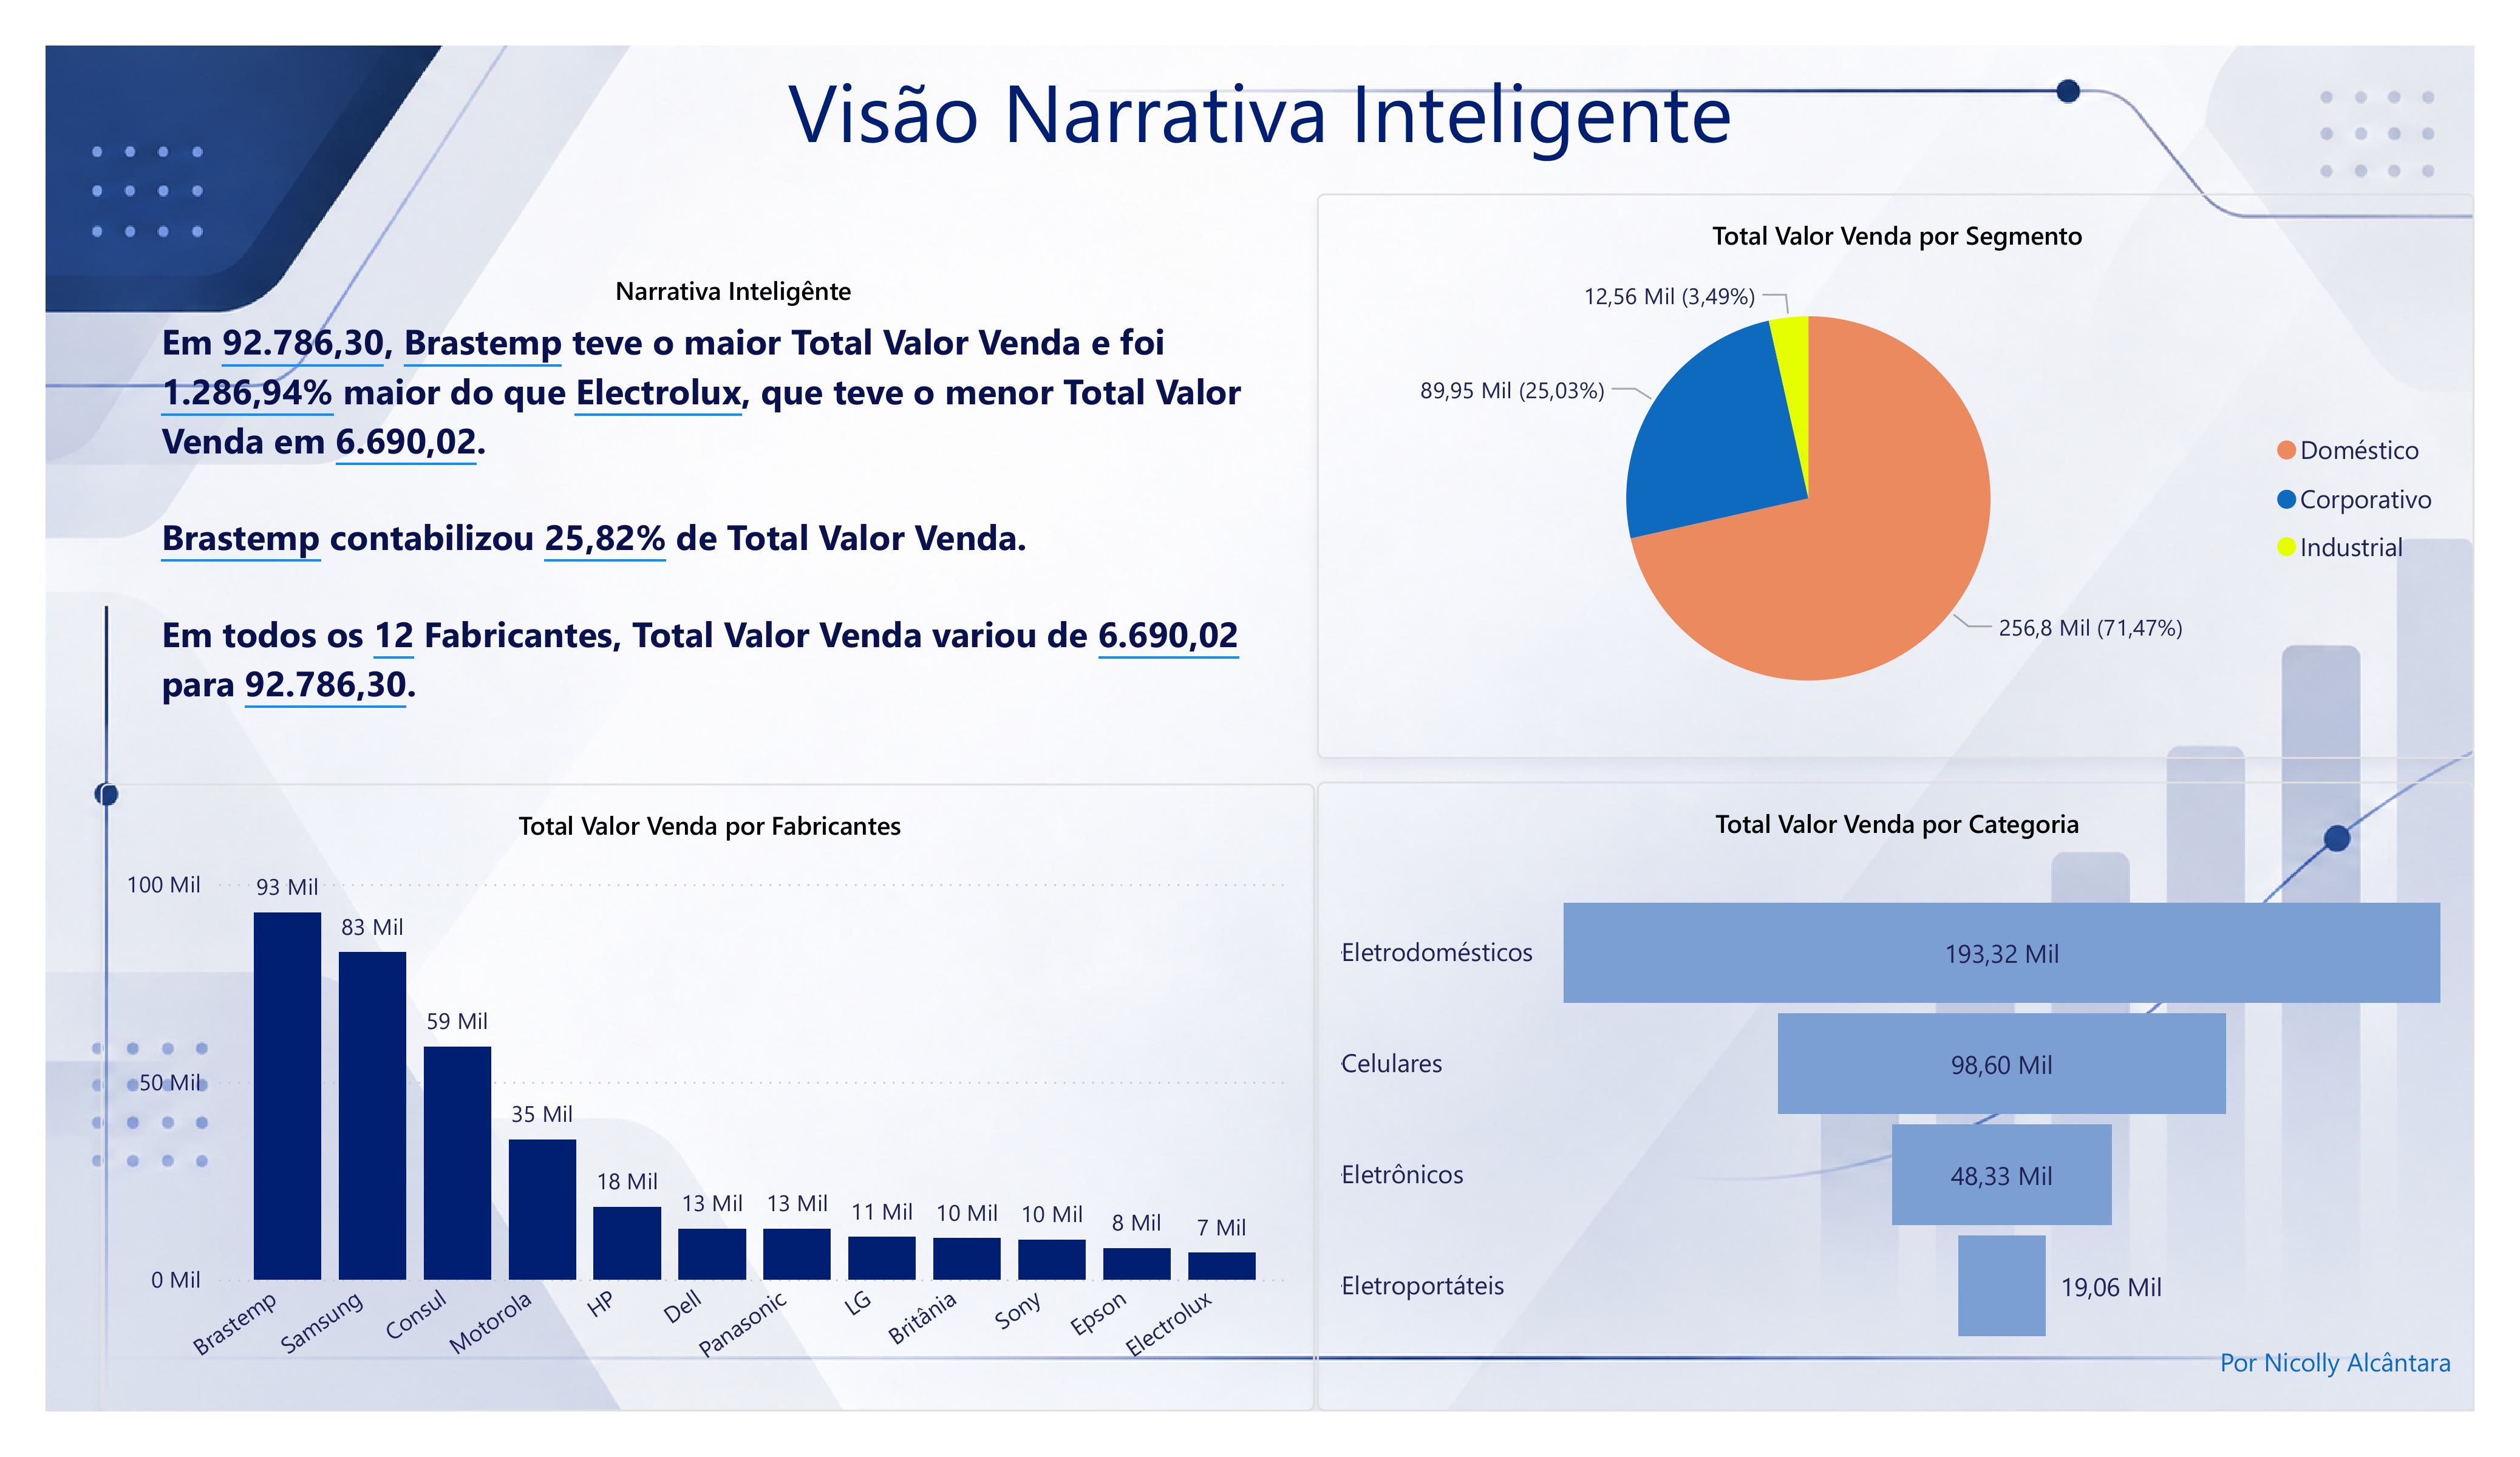

The page's visual inventory and layout, read from the dashboard file:
{"tool":"powerbi","page":{"name":"Narrativa Inteligente","canvas":[1280,720],"ordinal":1},"visuals":[{"type":"pieChart","fields":{"Category":["Vendas.Segmento"],"Y":["Sum(Vendas.ValorVenda)"]},"box":[670,77.5,610,298.8],"z":0},{"type":"columnChart","fields":{"Category":["Vendas.Fabricante"],"Y":["Sum(Vendas.ValorVenda)"]},"box":[28.8,388.8,640,331.2],"z":1000},{"type":"funnel","fields":{"Y":["Sum(Vendas.ValorVenda)"],"Category":["Vendas.Categoria"]},"box":[669.6,388.3,610.6,332.1],"z":2000},{"type":"textbox","title":"Narrativa Inteligênte","box":[56.2,120,612.5,288.8],"z":3000},{"type":"textbox","box":[0,0,1280,77.5],"z":4000},{"type":"textbox","box":[1141.4,680,138.6,40],"z":4001}]}

Visuals, with their boxes on the page's 1280x720 design canvas (x1, y1, x2, y2). These are canvas units, not pixel positions in the 2520x1457 screenshot, which may show the page scaled, cropped or inside an application window:
pieChart - Vendas.Segmento x Sum(Vendas.ValorVenda): (left=670, top=78, right=1280, bottom=376)
columnChart - Vendas.Fabricante x Sum(Vendas.ValorVenda): (left=29, top=389, right=669, bottom=720)
funnel - Sum(Vendas.ValorVenda) x Vendas.Categoria: (left=670, top=388, right=1280, bottom=720)
"Narrativa Inteligênte" textbox: (left=56, top=120, right=669, bottom=409)
textbox: (left=0, top=0, right=1280, bottom=78)
textbox: (left=1141, top=680, right=1280, bottom=720)
